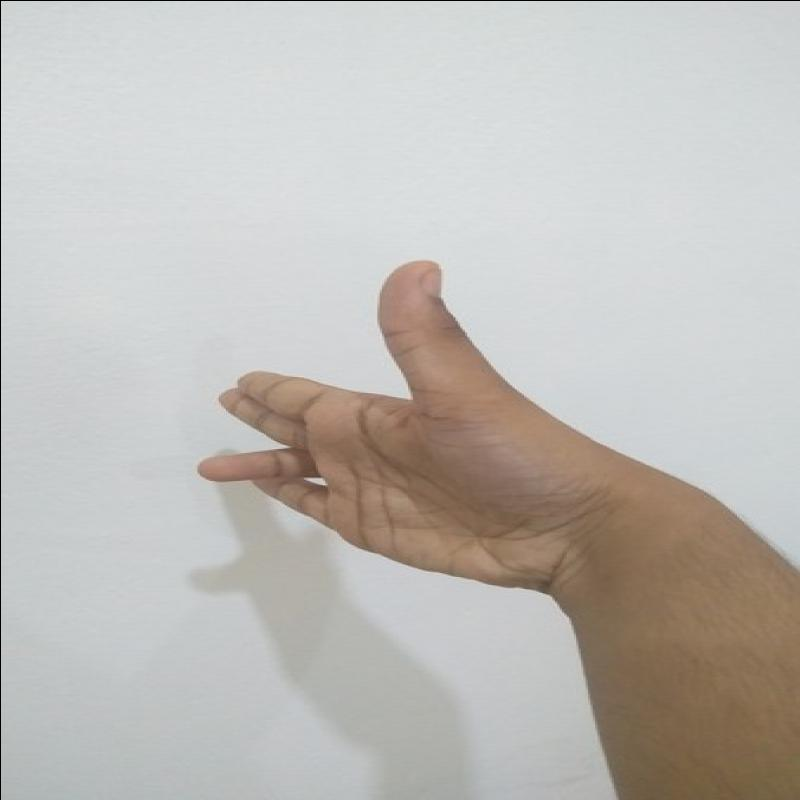Pathaaka: (182, 251, 575, 593)
